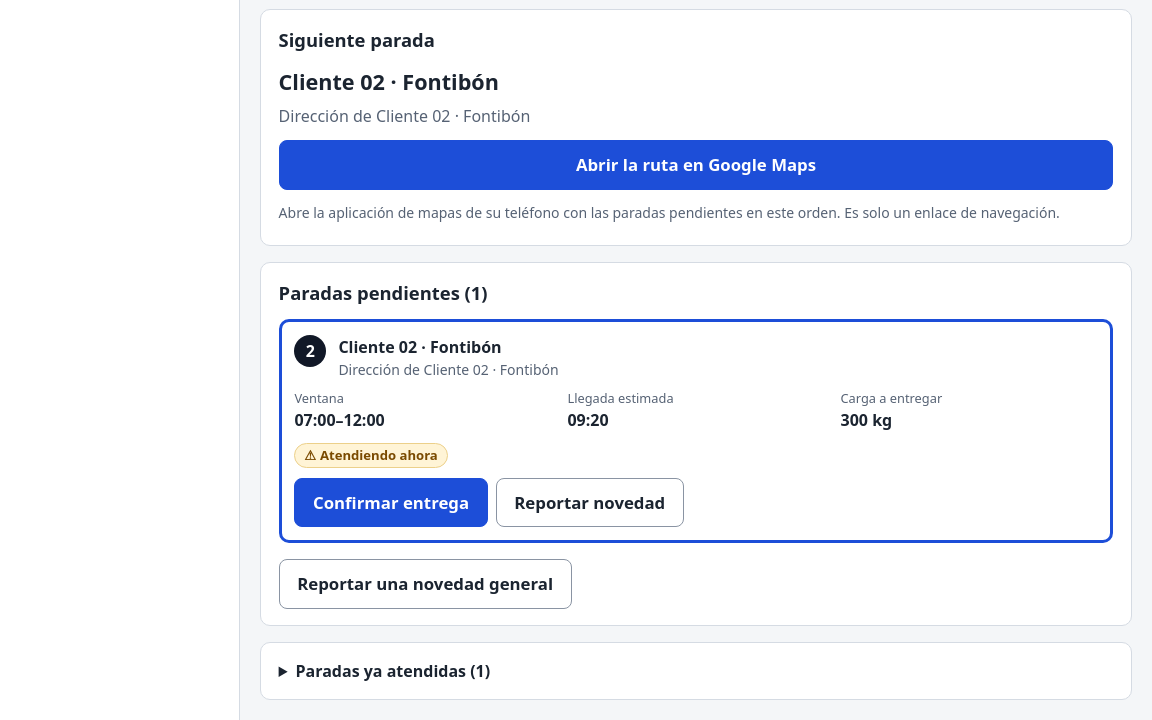
it: hoja de ruta del conductor › muestra el error del servidor al confirmar fuera de lugar
(page scrolled)
Click the button with aria-label "Confirmar entrega a Cliente 02 · Fontibón": (391, 503) x1=294 y1=478 x2=488 y2=528
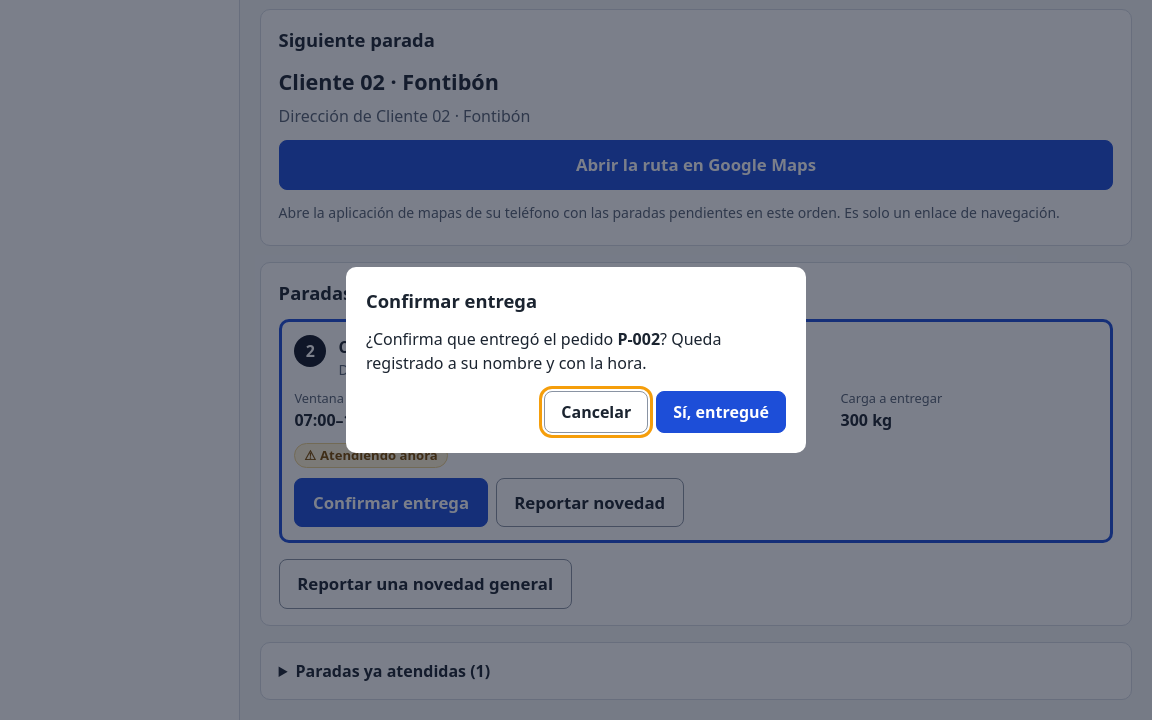
Click the button "Sí, entregué": (721, 412) x1=656 y1=391 x2=786 y2=433
(page scrolled)
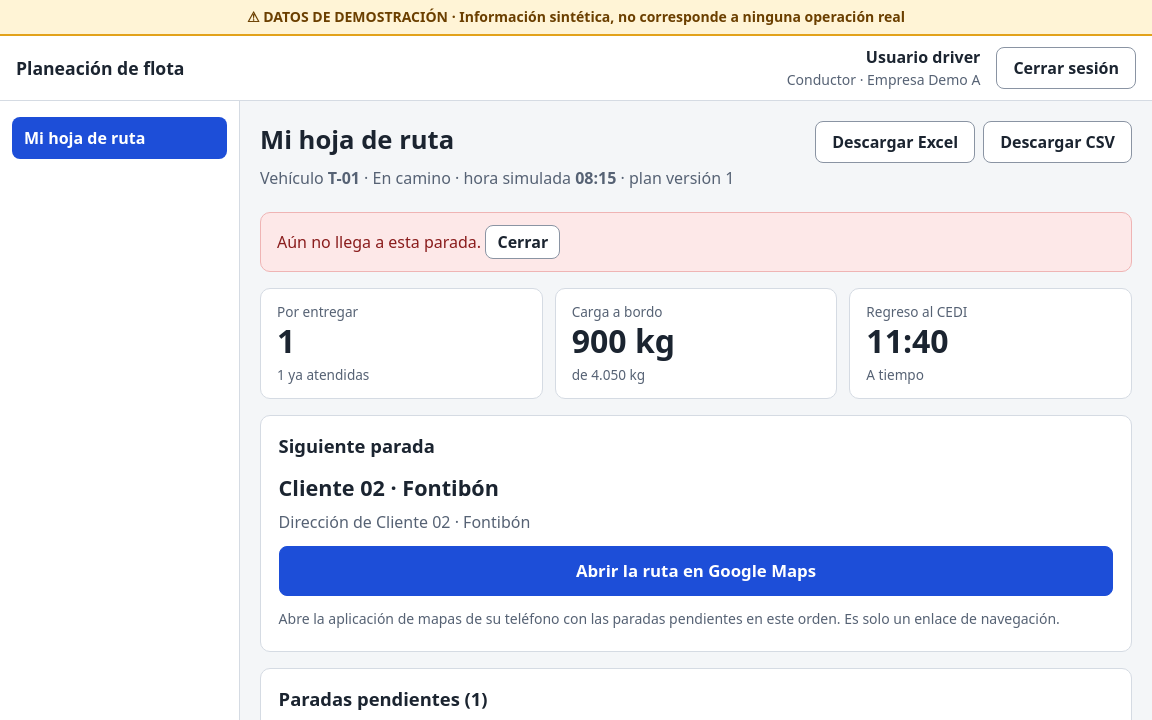
Result: the message shows "Aún no llega a esta parada." at x1=277 y1=231 x2=481 y2=253
